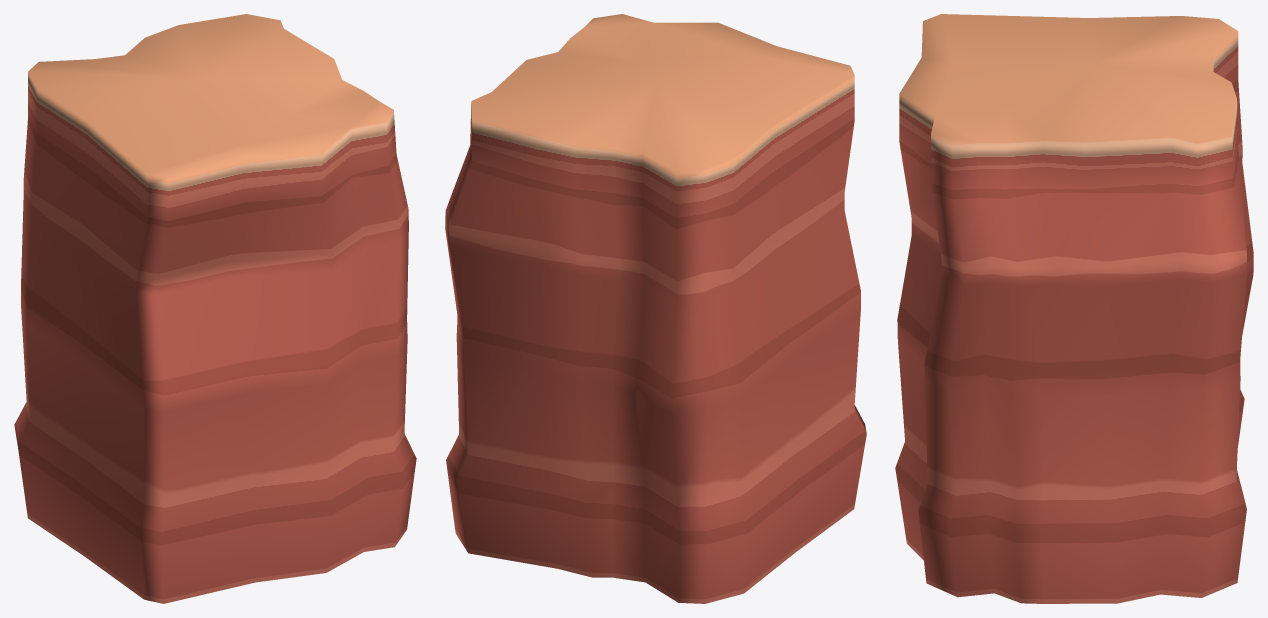
File: BO_Rock_2x3x2.fbx
3 views of the same model, side by side, from view 1: azimuth 30°, elevation 25°; view 2: azimuth 150°, elevation 25°; view 3: azimuth 270°, elevation 25° (orthographic). The views are drawn at different scales.
Visible parts, largest first — view 1: Rock_2x3x2; view 2: Rock_2x3x2; view 3: Rock_2x3x2.
Boxes of the visible parts, x1,y1,x2,y2 form: Rock_2x3x2: [14, 14, 416, 603]; Rock_2x3x2: [445, 14, 866, 603]; Rock_2x3x2: [895, 14, 1253, 603].
Size of the model in its own units: 215 by 304 by 215.
Materials: 1 (1 with a texture image).
